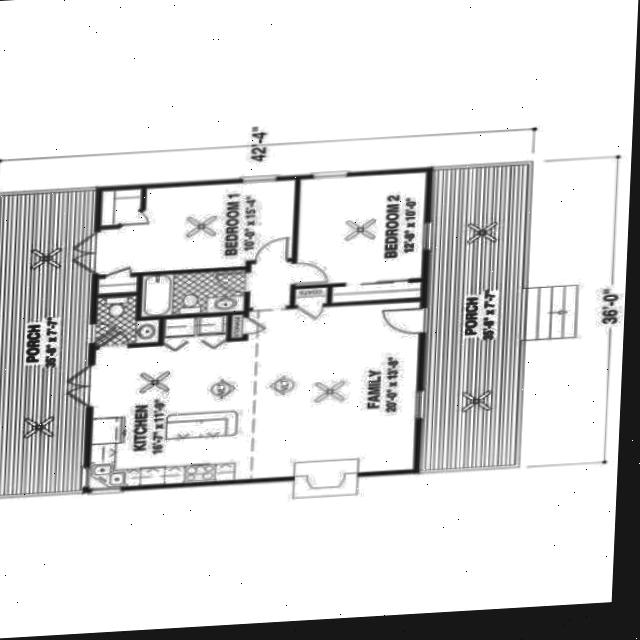room: (77, 253, 430, 487), (95, 179, 298, 292), (289, 172, 433, 303), (139, 269, 248, 316), (92, 293, 161, 344)
